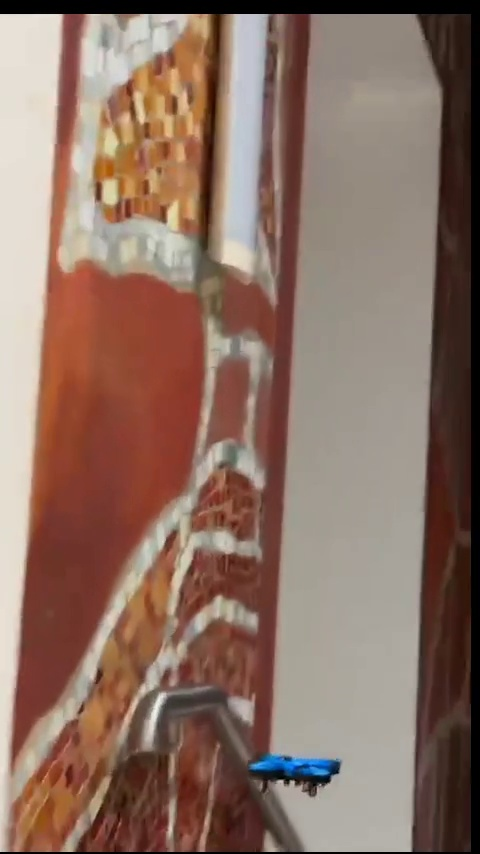drone: (248, 751, 347, 791)
